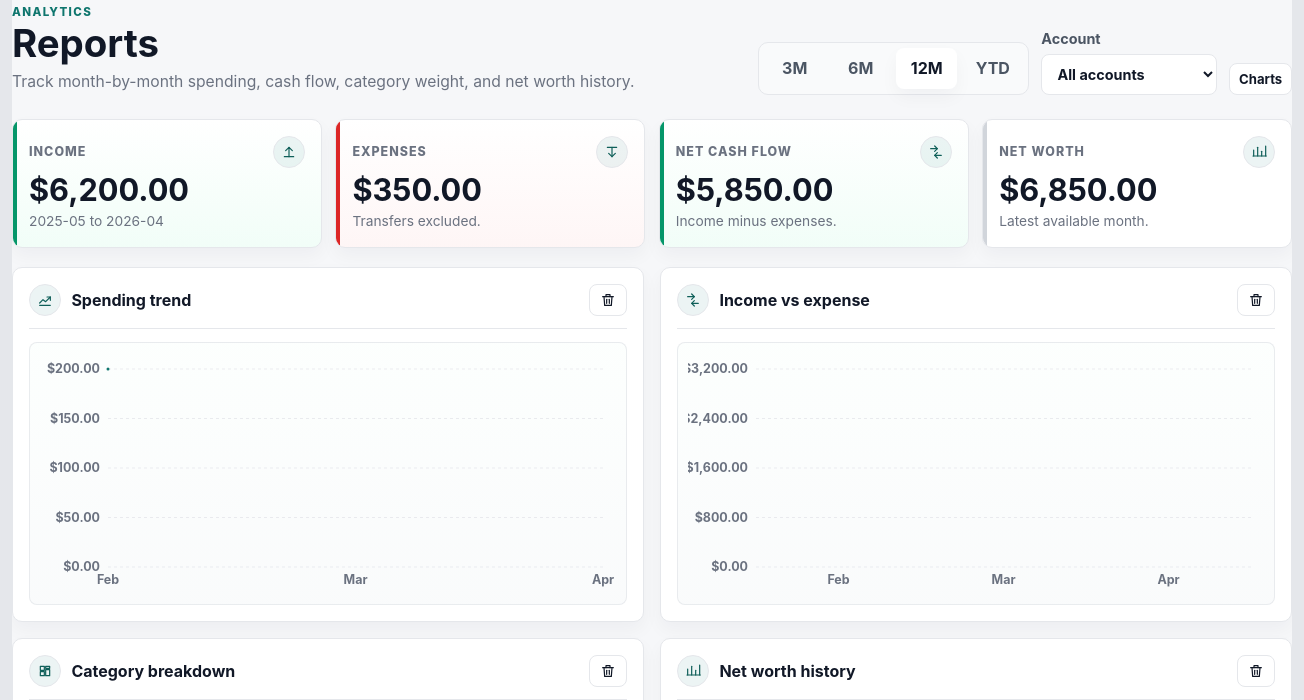
it: ReportsPage › removes and restores report charts with persisted selection
This screenshot has width=1304, height=700.
Click the button named "Remove Spending trend": (608, 300) left=589, top=284, right=627, bottom=316
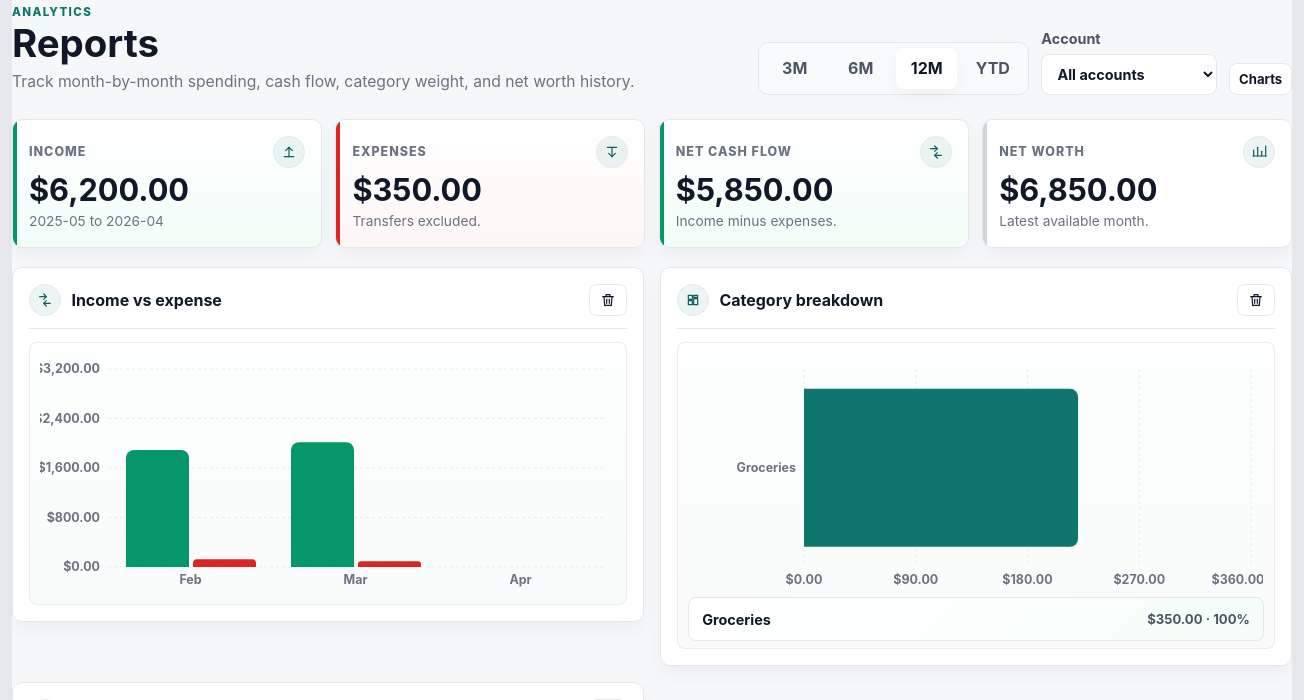
Expected: the heading "Spending trend" is gone
Click the button "Charts": (1261, 79) left=1229, top=63, right=1292, bottom=95
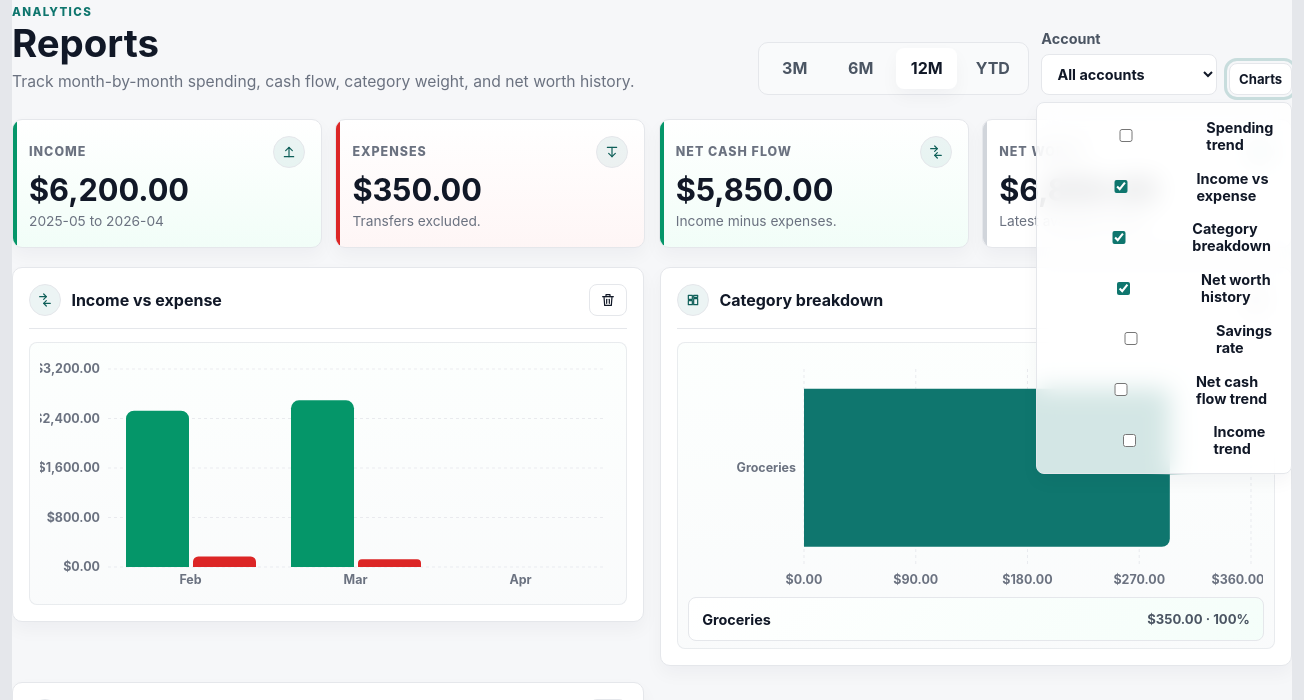
Click the checkbox labelled "Spending trend": (1126, 136) left=1059, top=129, right=1193, bottom=142
(page scrolled)
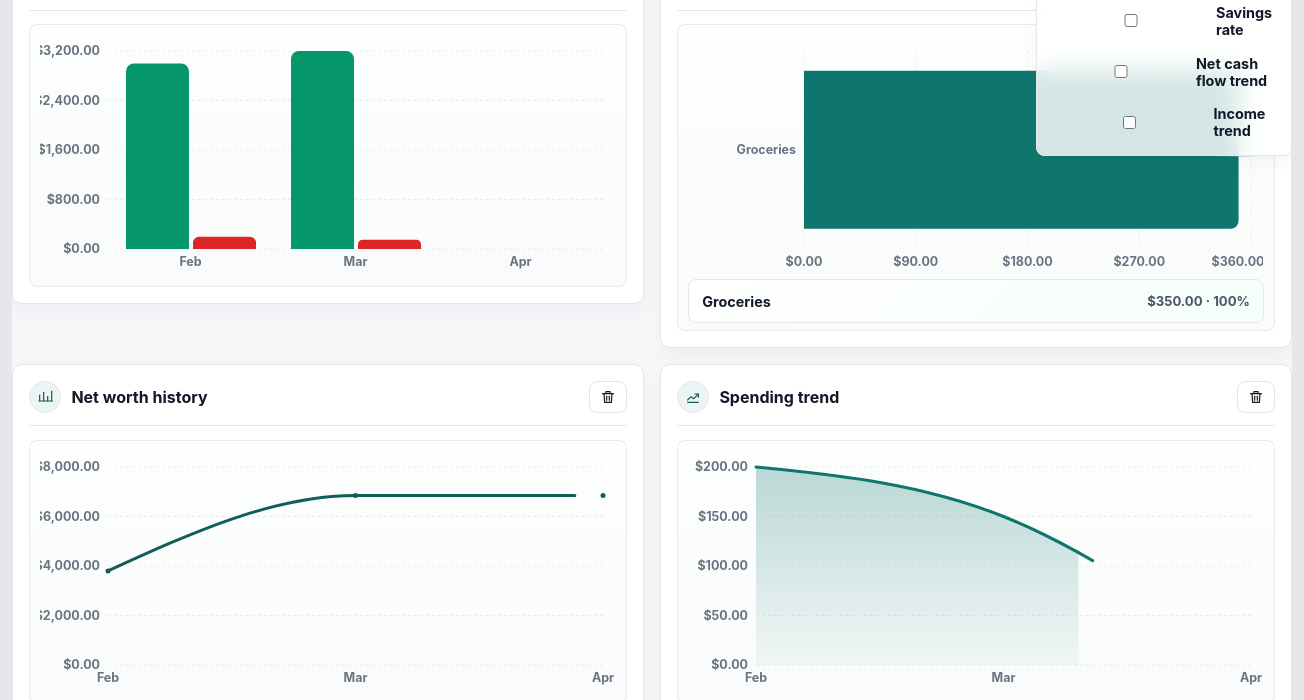
Expected: the heading "Spending trend" is shown, left=719, top=387, right=839, bottom=407
